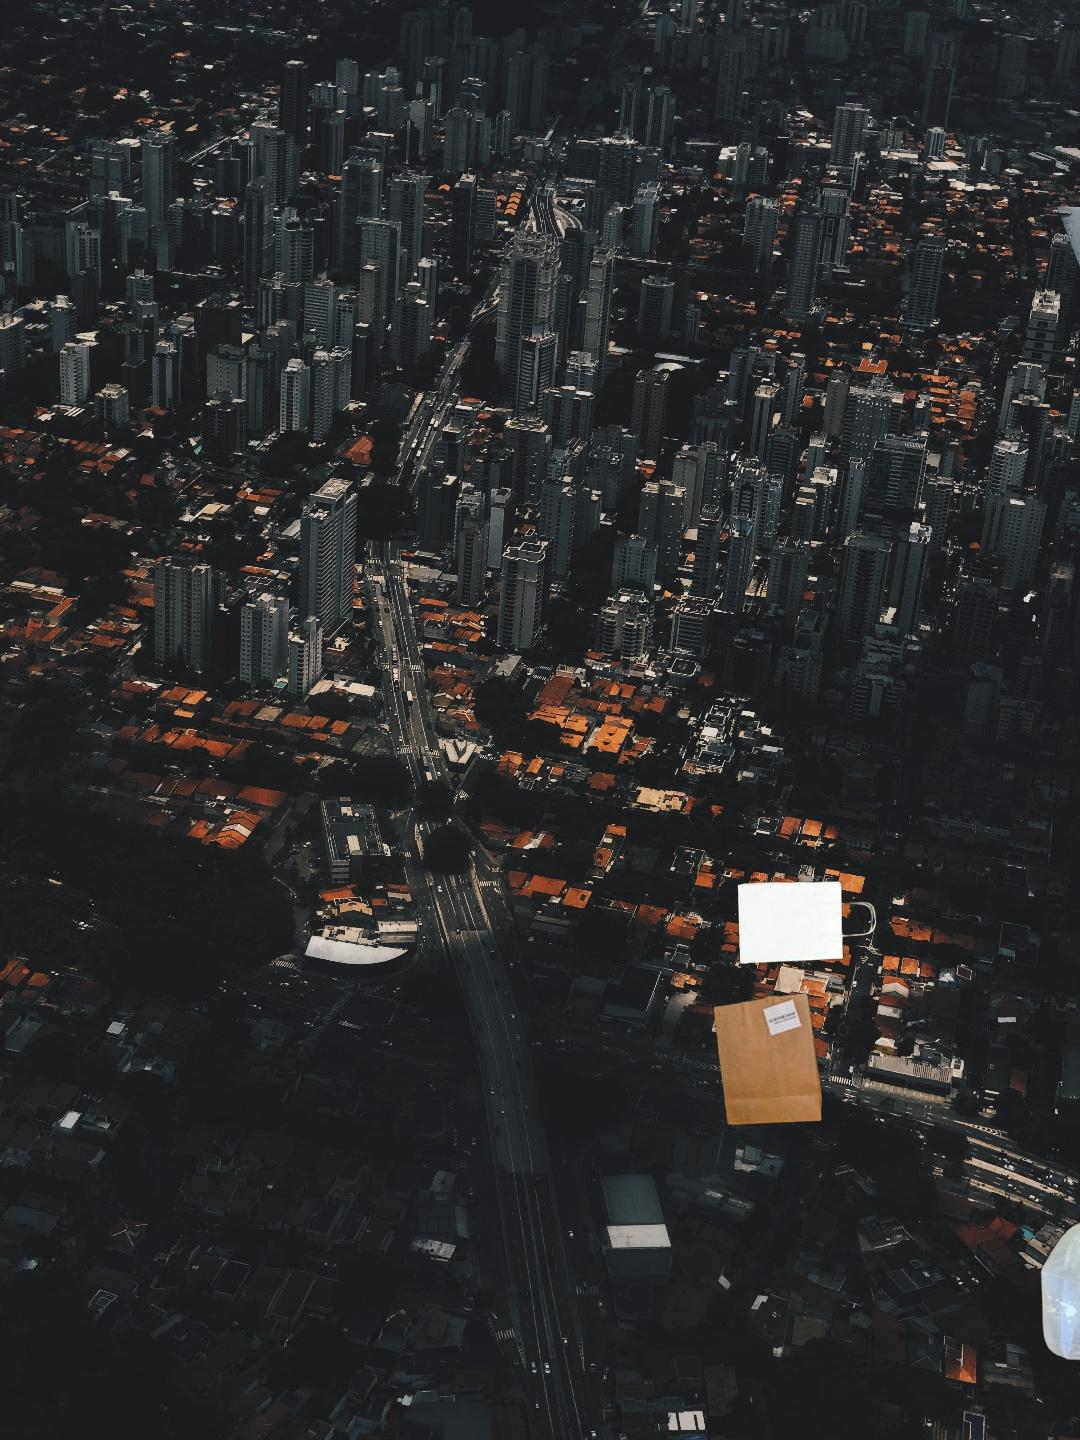paper-bag: (710, 869, 880, 1128)
plastic-bottles: (1035, 1198, 1080, 1378)
